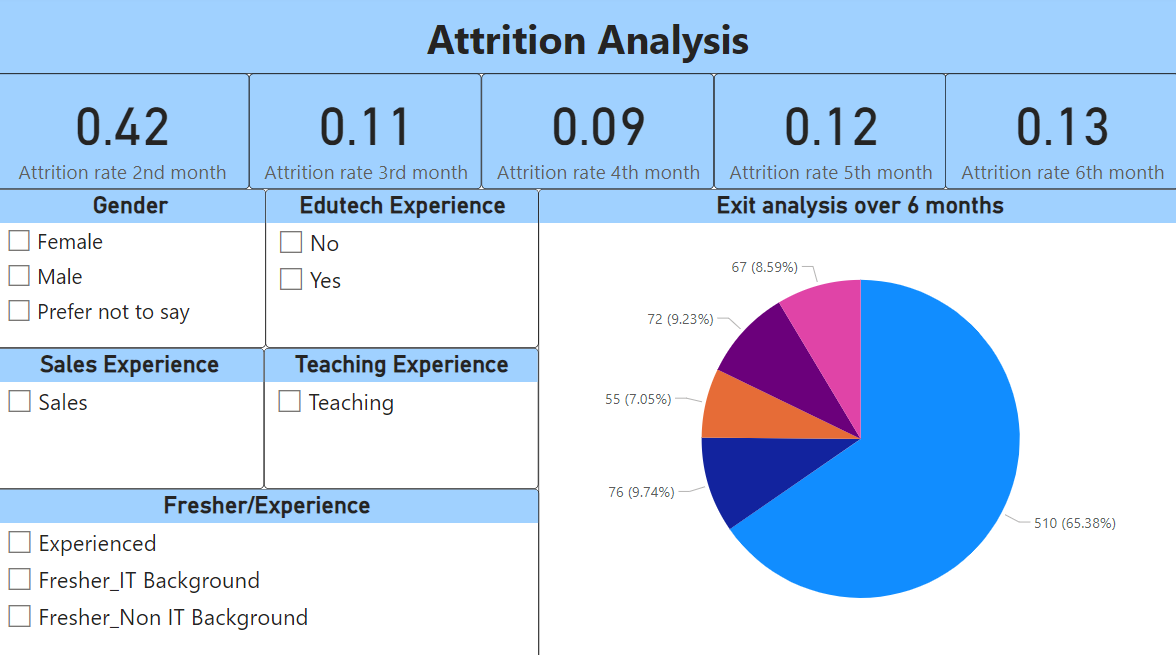

Layout of this report page (visuals, bound fields, positions):
{"tool":"powerbi","page":{"name":"Attrition Analysis","canvas":[1280,720],"ordinal":1},"visuals":[{"type":"textbox","box":[0,0,1279.2,85.8],"z":1000},{"type":"card","fields":{"Values":["Attrition measure table.Attrition rate 2nd month"]},"box":[0,85.8,275.3,124.7],"z":2000},{"type":"card","fields":{"Values":["Attrition measure table.Attrition rate 4th month"]},"box":[526.2,85.8,251,124.7],"z":3000},{"type":"card","fields":{"Values":["Attrition measure table.Attrition rate 5th month"]},"box":[777.2,85.8,251,124.7],"z":4000},{"type":"card","fields":{"Values":["Attrition measure table.Attrition rate 6th month"]},"box":[1026.6,85.8,252.6,124.7],"z":5000},{"type":"card","fields":{"Values":["Attrition measure table.Attrition rate 3rd month"]},"box":[275.3,85.8,251,124.7],"z":6000},{"type":"slicer","title":"Gender","fields":{"Values":["Main_Table.Gender"]},"box":[0,210.5,293.1,171.6],"z":7000},{"type":"slicer","title":"Sales Experience","fields":{"Values":["Main_Table.Sales Experience"]},"box":[0,382.1,291.5,152.2],"z":8000},{"type":"slicer","title":"Fresher/Experience","fields":{"Values":["Main_Table.Fresher/Experienced"]},"box":[0,534.3,587.8,186.2],"z":9000},{"type":"slicer","title":"Teaching Experience","fields":{"Values":["Main_Table.Teaching Experience"]},"box":[291.5,382.1,296.3,152.2],"z":10000},{"type":"slicer","title":"Edutech Experience","fields":{"Values":["Main_Table.Previous EduTech Experience before joining NxtWave"]},"box":[293.1,210.5,294.7,171.6],"z":11000},{"type":"pieChart","title":"Exit analysis over 6 months","fields":{"Y":["2nd month measure.Exit During Internship 2nd month","3rd month measure.Exit During Employement 3rd month","4th month measure.Exit During Employement 4th month","5th month measure.Exit During Employement 5th month","6th month measure.Exit During Employement 6th month"]},"box":[587.8,210.5,693,508.4],"z":12000}]}

Visuals, with their boxes in screenshot pixels (x1, y1, x2, y2), scaled from the page's 1280x720 canvas onto the 1176x655 screenshot:
textbox: 0, 0, 1175, 78
card - Attrition measure table.Attrition rate 2nd month: 0, 78, 253, 191
card - Attrition measure table.Attrition rate 4th month: 483, 78, 714, 191
card - Attrition measure table.Attrition rate 5th month: 714, 78, 945, 191
card - Attrition measure table.Attrition rate 6th month: 943, 78, 1175, 191
card - Attrition measure table.Attrition rate 3rd month: 253, 78, 484, 191
"Gender" slicer: 0, 191, 269, 348
"Sales Experience" slicer: 0, 348, 268, 486
"Fresher/Experience" slicer: 0, 486, 540, 654
"Teaching Experience" slicer: 268, 348, 540, 486
"Edutech Experience" slicer: 269, 191, 540, 348
"Exit analysis over 6 months" pieChart: 540, 191, 1175, 654
